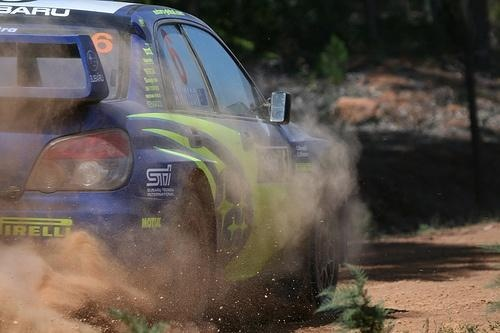car: (1, 2, 345, 333)
